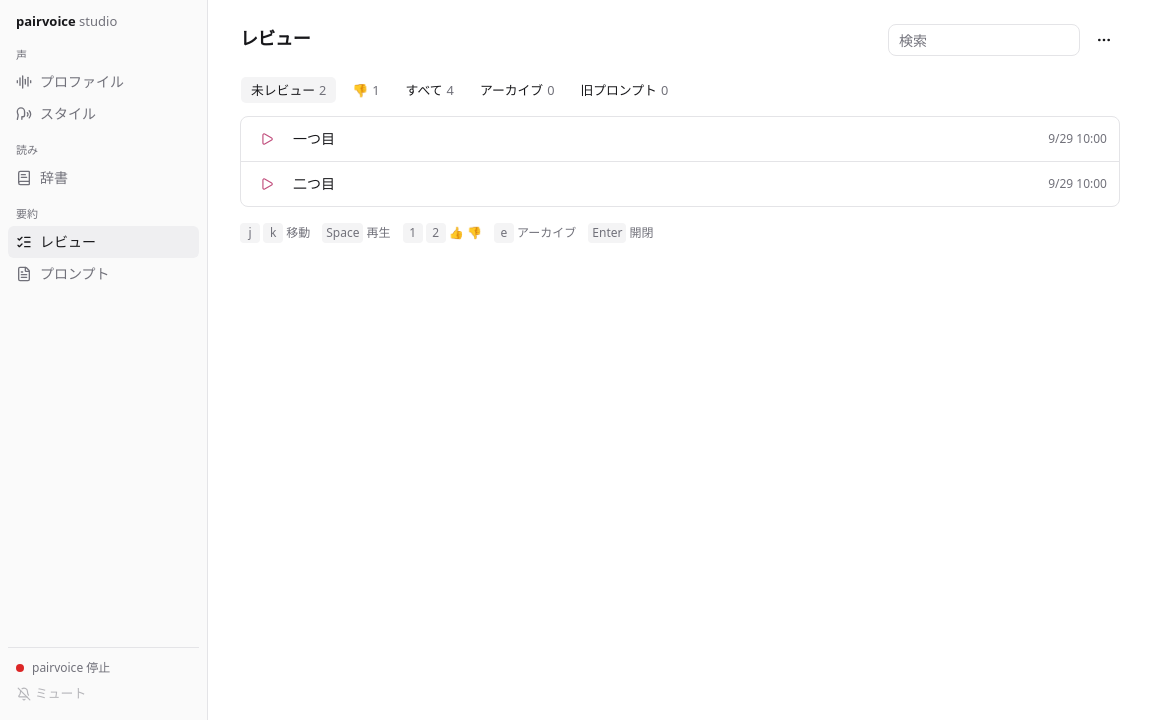
Test: 絞り込みを「すべて」にすると評価済みの行も出る
Expected: the text "一つ目" is shown, [293,129,335,148]
Click the button "すべて 4" at (430, 90), box [395,76,465,104]
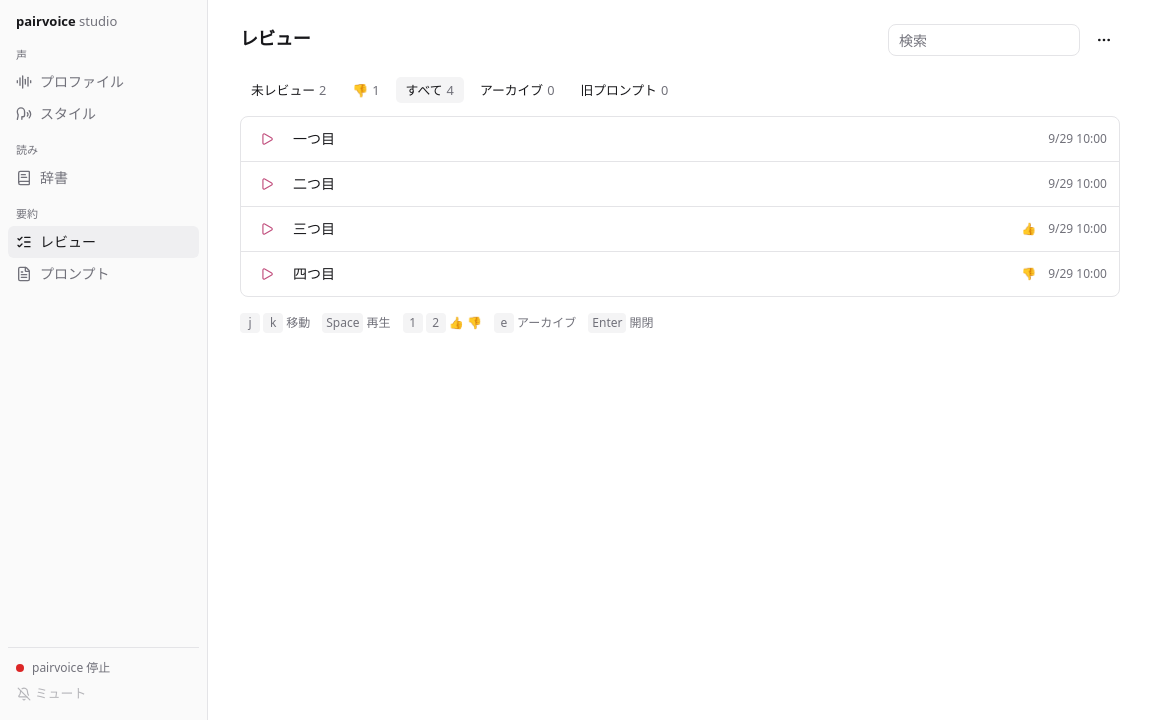
Expected: the text "三つ目" is shown, [293,219,335,238]
